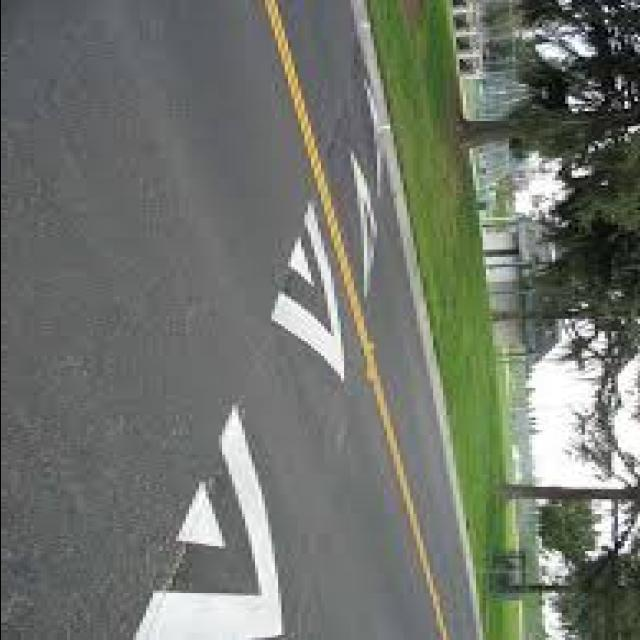speedbreaker: (126, 118, 390, 640)
